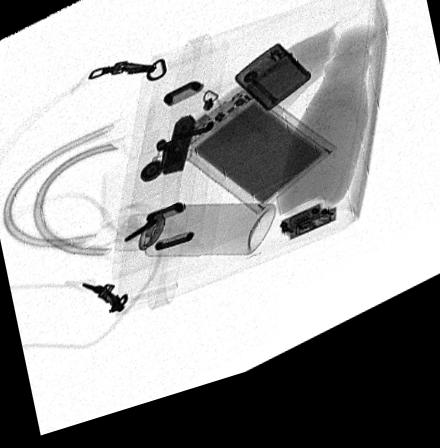Lighter: (234, 58, 311, 128)
Powerbank: (164, 97, 336, 230)
Sprayer: (112, 213, 275, 269)
